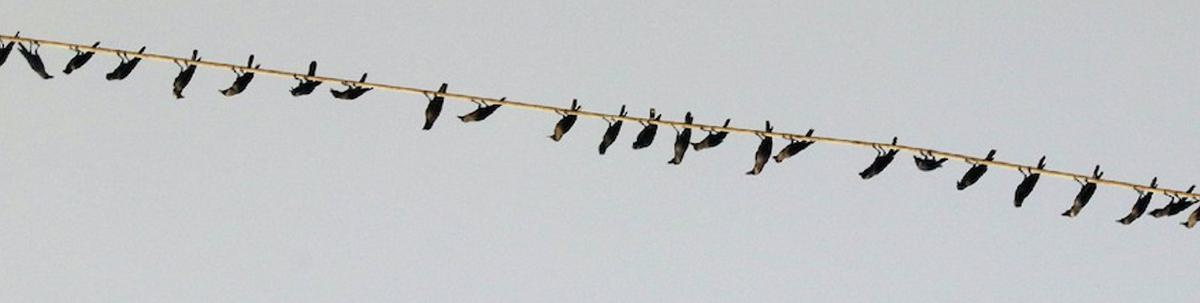crow: (1056, 163, 1109, 220), (948, 147, 1004, 200), (1001, 154, 1055, 206), (17, 36, 63, 84), (742, 116, 775, 182), (416, 80, 454, 137), (856, 137, 907, 178), (166, 43, 200, 101), (220, 52, 261, 100), (542, 98, 585, 142), (107, 35, 142, 89), (773, 126, 819, 167), (1154, 181, 1195, 227), (69, 27, 103, 81), (456, 95, 508, 130), (625, 102, 661, 151), (1116, 174, 1151, 223), (329, 68, 378, 103), (288, 55, 323, 101), (661, 115, 690, 168), (692, 118, 731, 153), (600, 104, 625, 157), (907, 151, 951, 174)
